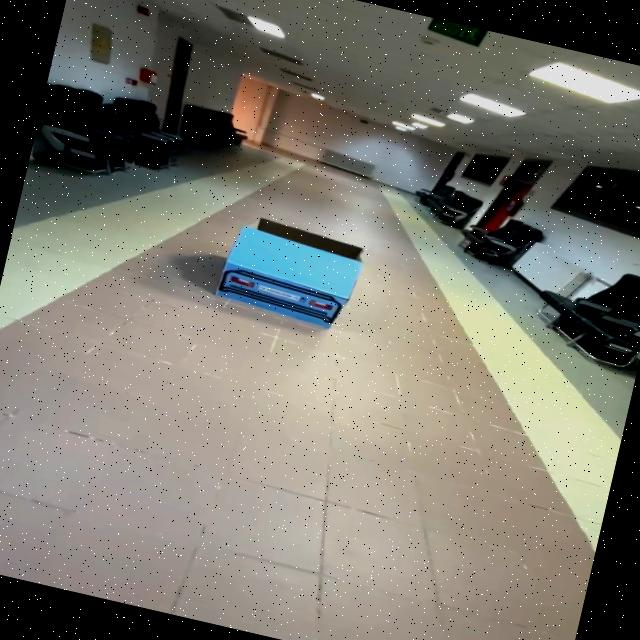blue_car: (184, 199, 407, 348)
